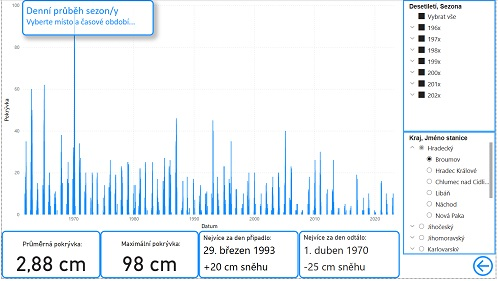

What the dashboard file says about the page in this screenshot:
{"tool":"powerbi","page":{"name":"Denní průběh sezon","canvas":[1280,720],"ordinal":2},"visuals":[{"type":"columnChart","fields":{"Category":["datumy.Datum"],"Y":["Výpočty.Switch"]},"box":[0,0,1039.8,597.7],"z":0},{"type":"slicer","fields":{"Values":["datumy.Desetiletí","datumy.Sezona"]},"box":[1039.8,0,240.2,340.6],"z":1000},{"type":"slicer","fields":{"Values":["Místa.Kraj","Místa.Jméno stanice"]},"box":[1039.8,340.6,240.2,318],"z":2000},{"type":"card","title":"Maximální pokrývka:","fields":{"Values":["Výpočty.KartaMax"]},"box":[255.8,597.2,254.8,122.6],"z":3000},{"type":"card","title":"Průměrná pokrývka:","fields":{"Values":["Výpočty.KartaPok"]},"box":[0,597.2,255.8,122.6],"z":4000},{"type":"multiRowCard","title":"Nejvíce za den připadlo:","fields":{"Values":["Výpočty.MaximálníRozdílMeziDny","Výpočty.MaxRozdílPlus"]},"box":[510.6,597.2,258.7,122.6],"z":5000},{"type":"multiRowCard","title":"Nejvíce za den odtálo:","fields":{"Values":["Výpočty.MaxRozdílDatDwwn","Výpočty.MaxRozdílMinus"]},"box":[770.3,597.2,260.7,122.6],"z":6000},{"type":"textbox","box":[53,0,340.6,92.5],"z":7000},{"type":"actionButton","box":[1214.8,655.6,65.2,64.2],"z":8000}]}

Visuals, with their boxes in screenshot pixels (x1, y1, x2, y2), scaled from the page's 1280x720 canvas onto the 498x281 screenshot:
columnChart - datumy.Datum x Výpočty.Switch: BBox(0, 0, 405, 233)
slicer - datumy.Desetiletí x datumy.Sezona: BBox(405, 0, 497, 133)
slicer - Místa.Kraj x Místa.Jméno stanice: BBox(405, 133, 497, 257)
"Maximální pokrývka:" card: BBox(100, 233, 199, 280)
"Průměrná pokrývka:" card: BBox(0, 233, 100, 280)
"Nejvíce za den připadlo:" multiRowCard: BBox(199, 233, 299, 280)
"Nejvíce za den odtálo:" multiRowCard: BBox(300, 233, 401, 280)
textbox: BBox(21, 0, 153, 36)
actionButton: BBox(473, 256, 497, 280)
